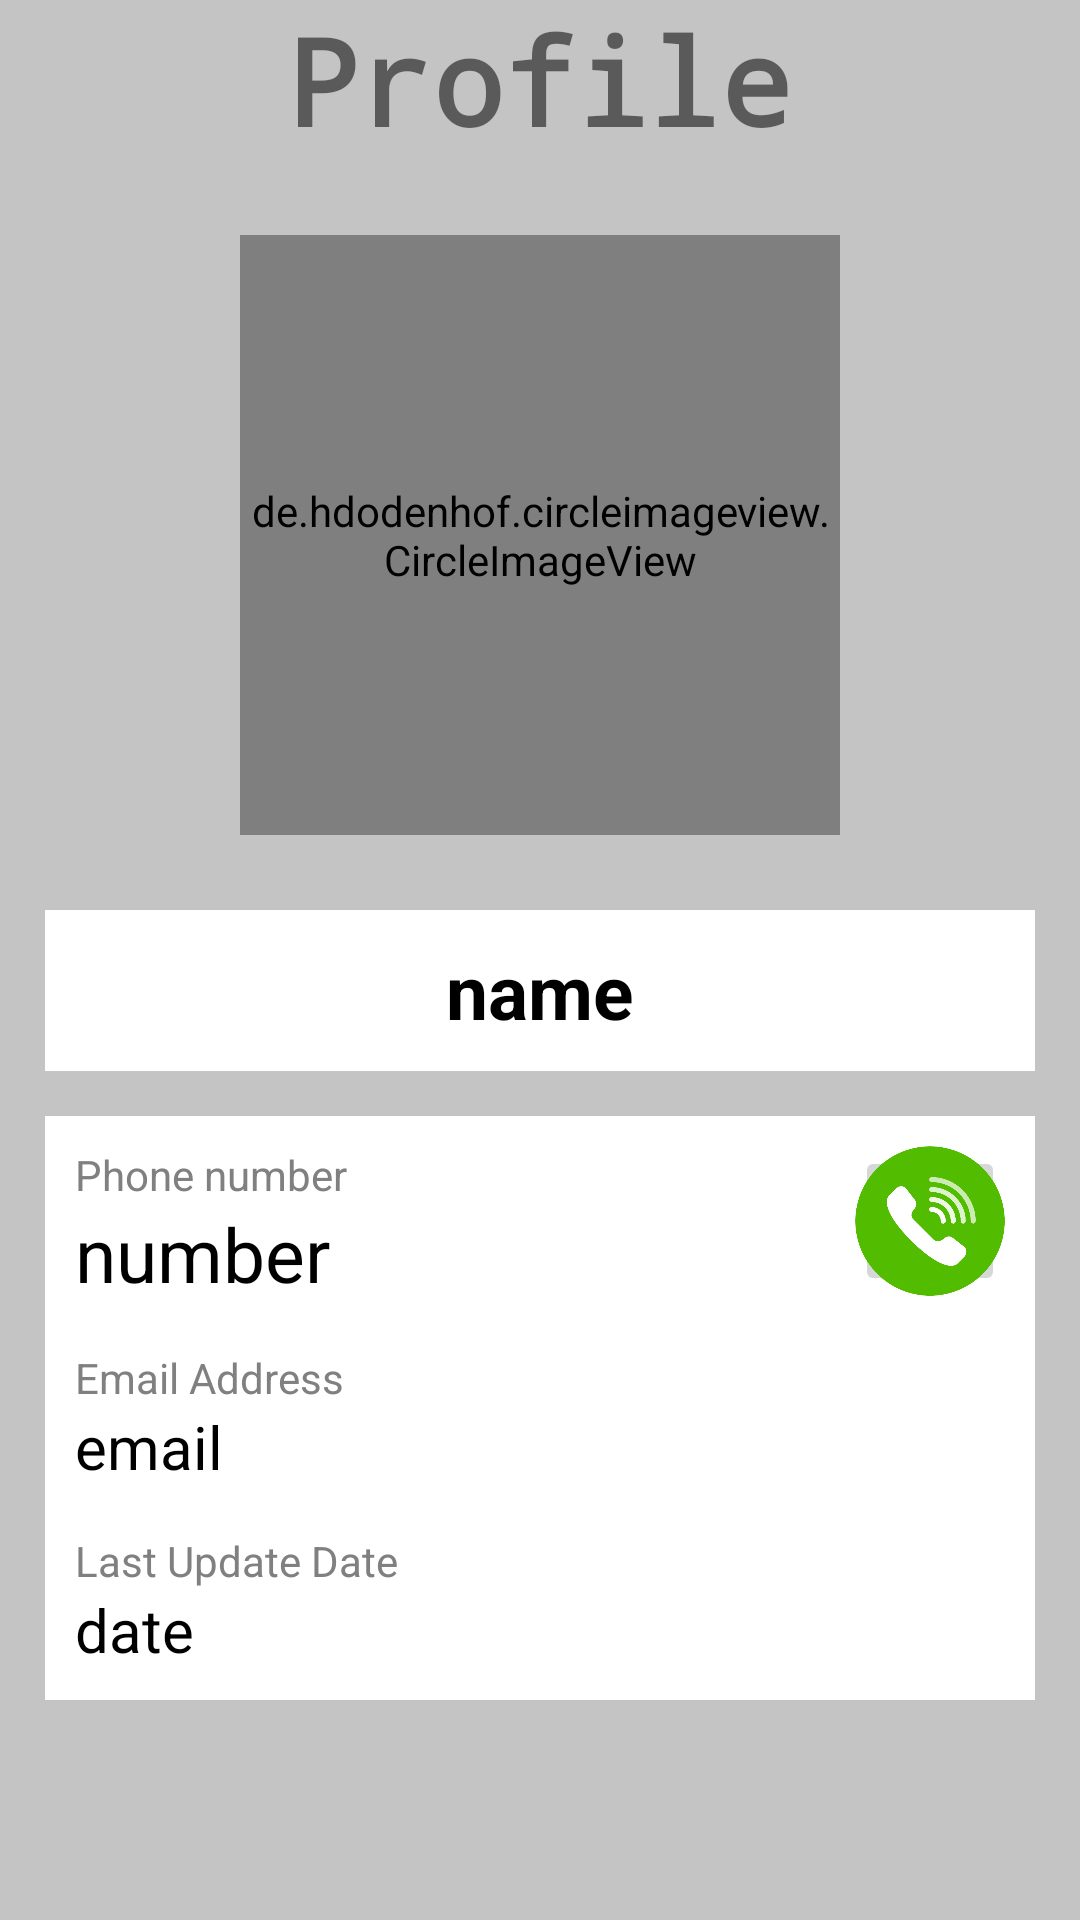

Screen size 1080 x 1920. Icon name, then its box in pixels as Rect(x1, y1, x2, y2):
call: Rect(855, 1146, 1005, 1296)
